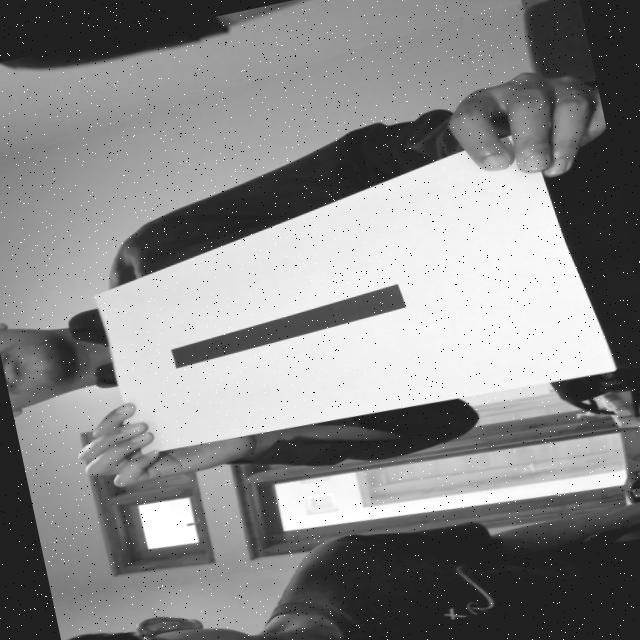i: (139, 239, 452, 395)
